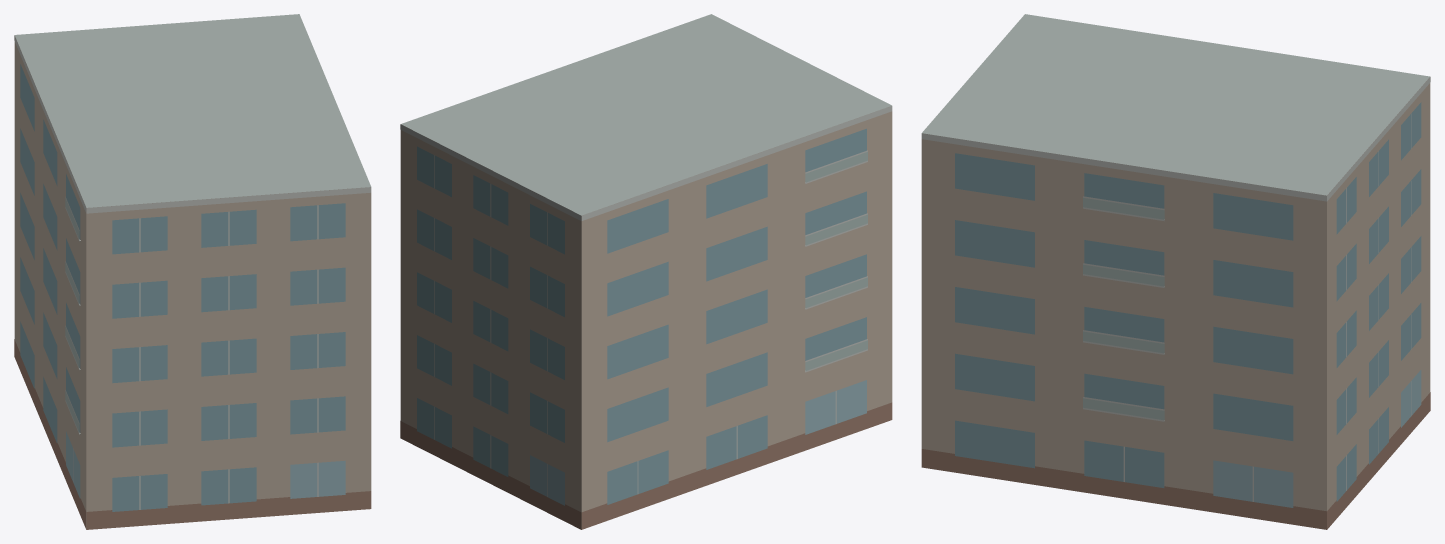
Rendered from survey-upis-32756409.glb.
3 renders of one model, left to right at view 1: azimuth 30°, elevation 25°; view 2: azimuth 150°, elevation 25°; view 3: azimuth 270°, elevation 25°, orthographic. The views are drawn at different scales.
Visible parts, largest first — view 1: survey-upis-32756409.tmp; view 2: survey-upis-32756409.tmp; view 3: survey-upis-32756409.tmp.
Part boxes in pixels (x1=…): survey-upis-32756409.tmp: x1=14, y1=14, x2=371, y2=529; survey-upis-32756409.tmp: x1=400, y1=14, x2=892, y2=529; survey-upis-32756409.tmp: x1=921, y1=14, x2=1430, y2=529.
Size of the model in its own units: 15.97 by 13.7 by 18.91.
